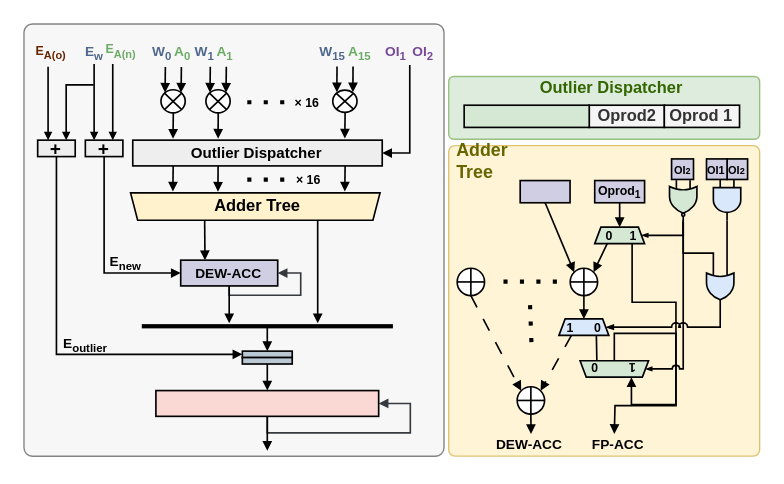
Image size: 784x484. Some labels were removed from this diagram. The centre of each missing label's shape, as x and y in pixels:
Nprod Lane: the point at 526,116
Oprod 2: the point at 544,191
Shared FP-ACC: the point at 266,402
